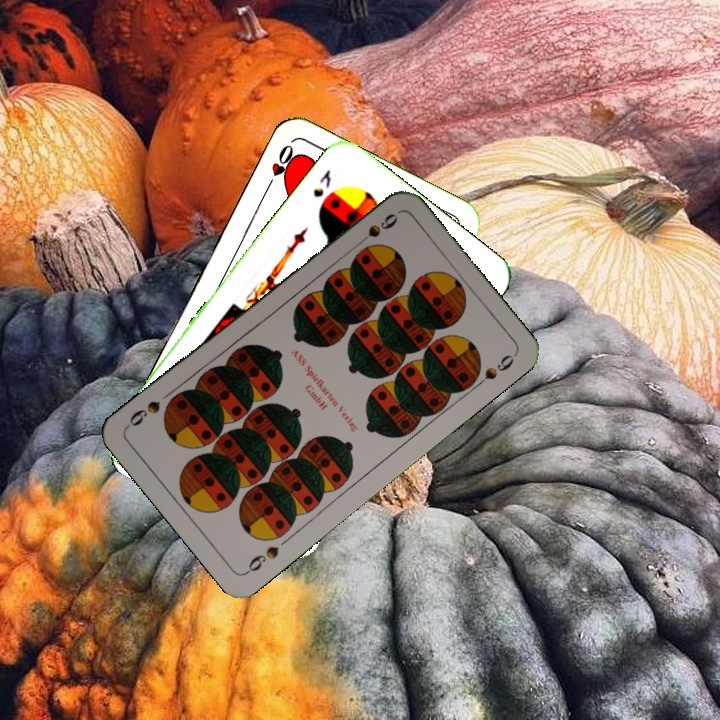HO: (261, 140, 300, 194)
S9: (350, 209, 401, 250), (241, 541, 282, 577)
SK: (309, 165, 334, 200)
